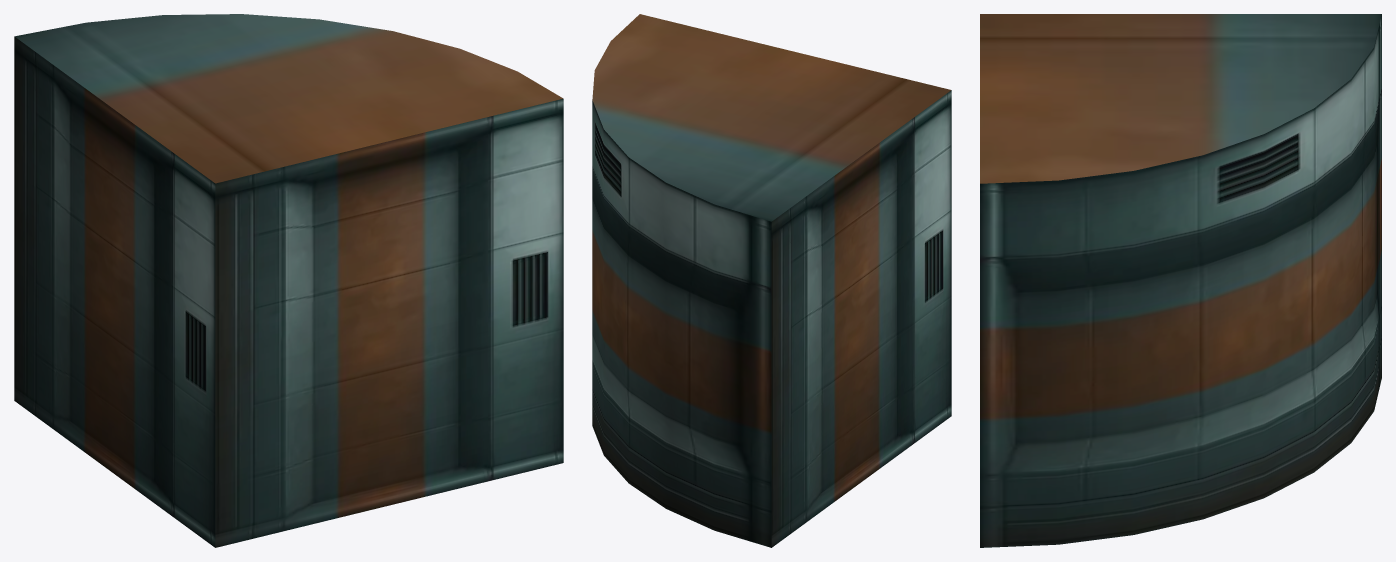
The picture shows the model from 3 angles, left to right: view 1: azimuth 30°, elevation 25°; view 2: azimuth 150°, elevation 25°; view 3: azimuth 270°, elevation 25°; orthographic projection. The views are drawn at different scales.
Parts seen in each view (by area): view 1: Round outer corner; view 2: Round outer corner; view 3: Round outer corner.
Part boxes in pixels (bbox=[...]): Round outer corner: bbox=[14, 14, 563, 547]; Round outer corner: bbox=[592, 14, 951, 547]; Round outer corner: bbox=[980, 14, 1381, 547].
Size of the model in its own units: 2 by 2 by 2.
1 material, 1 textured.
